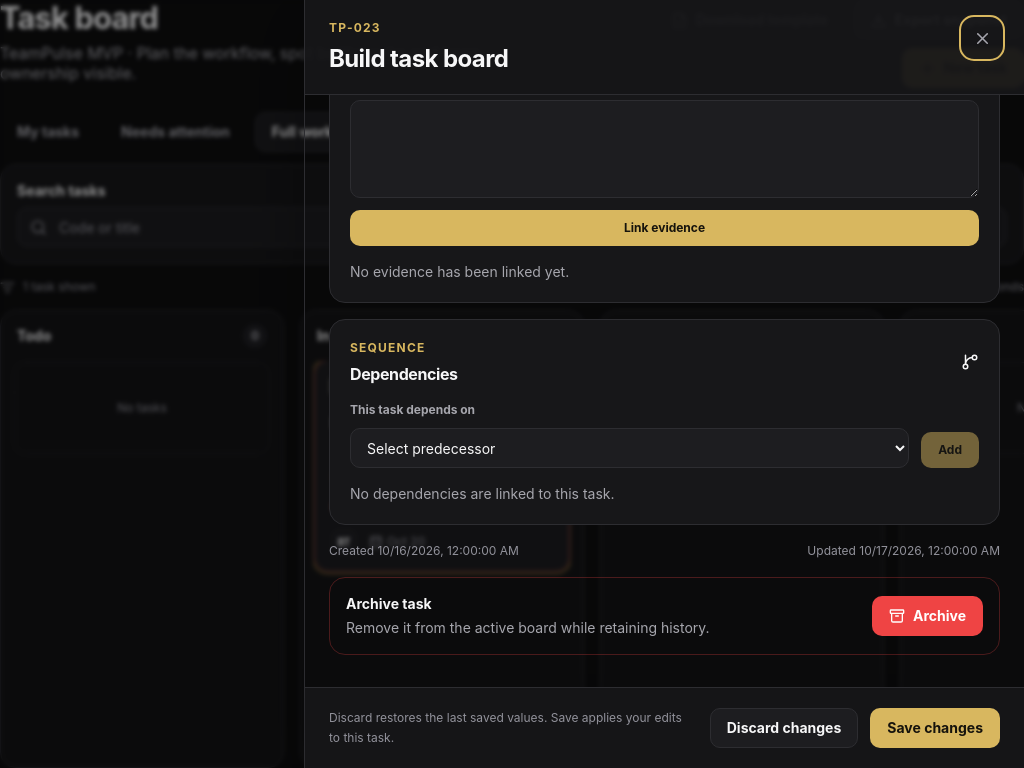
task board flow › requires archive confirmation before removing the task from the active board
(page scrolled)
Click the button "Archive" at point(928, 616), box [872,596,983,636]
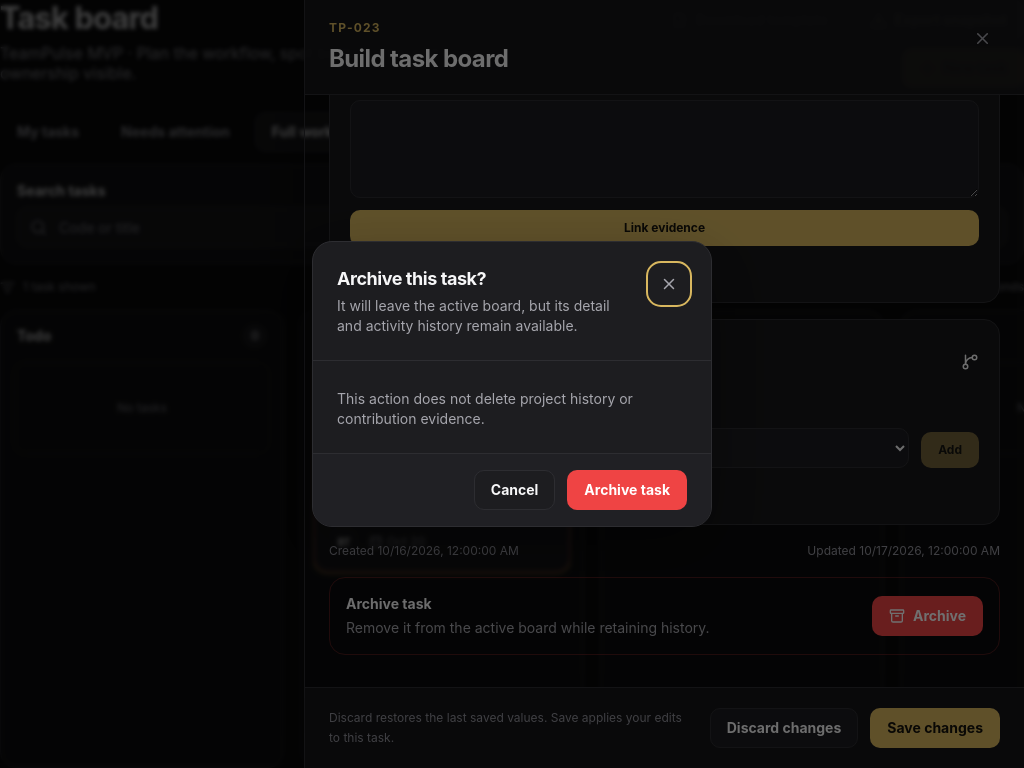
Click the button "Archive task" at point(627, 490), box [567,470,687,510]
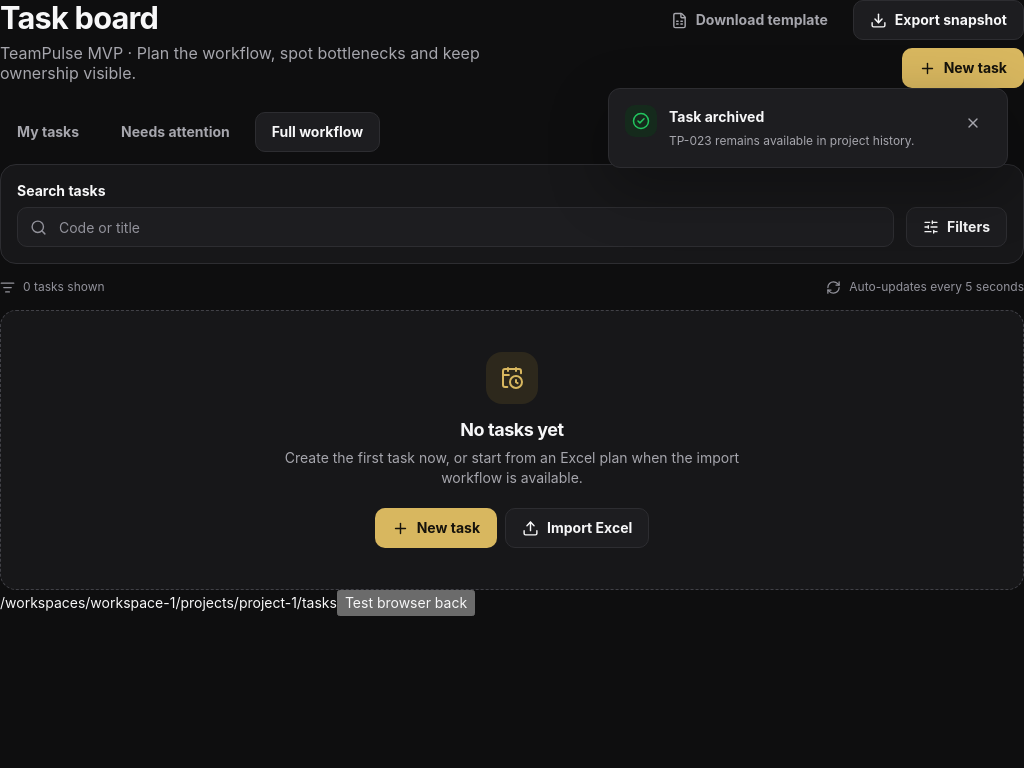
Expected: the text with test id "location" no longer shows "task=task-1", [0,594,337,611]
